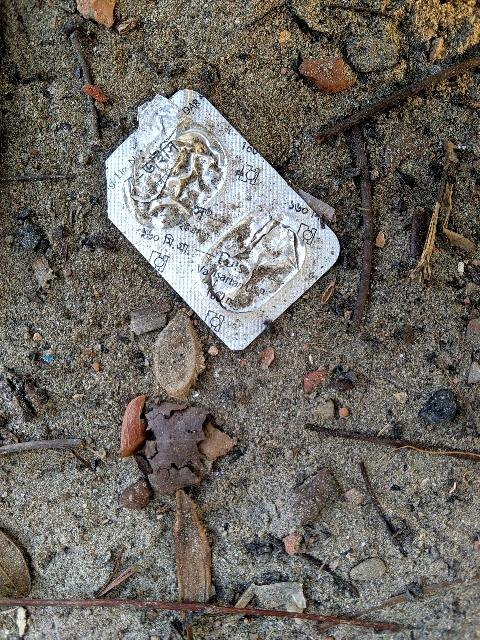medicine: (70, 71, 361, 361)
